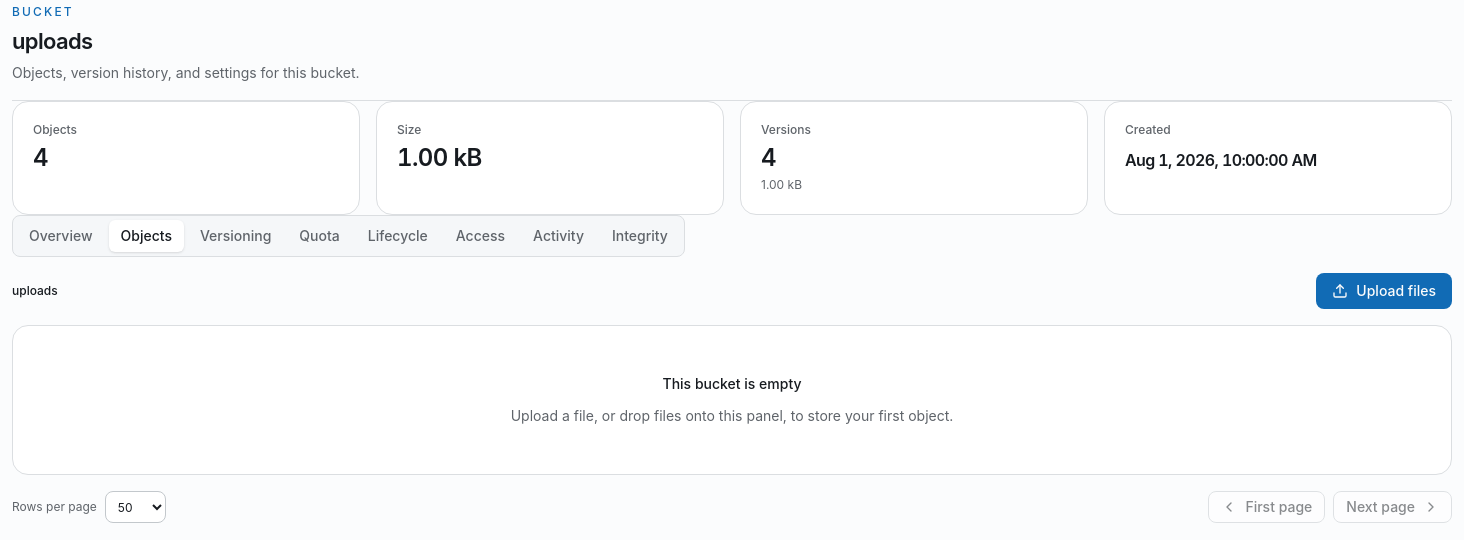
Test case: bucket lifecycle rules › states what a rule will actually do
The width and height of the screenshot is (1464, 540).
Click the tab "Lifecycle" at (398, 236), box [356,220,440,252]
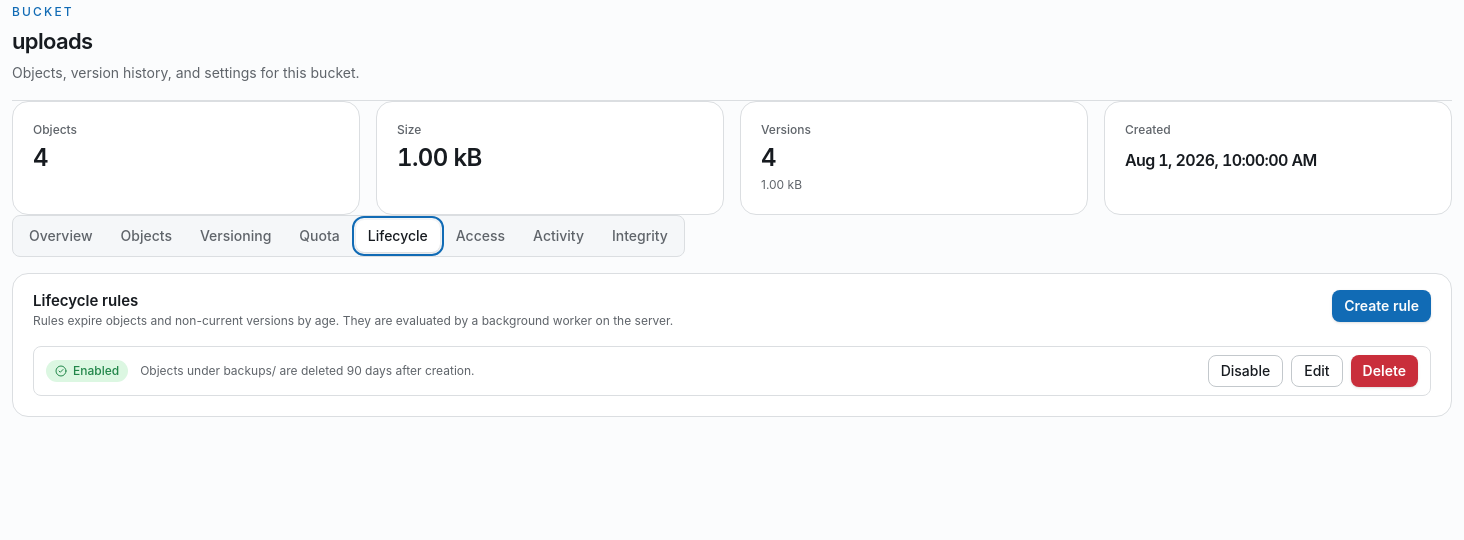
Now the text "Objects under backups/ are deleted 90 days after creation." is shown, box [140,363,475,378]
